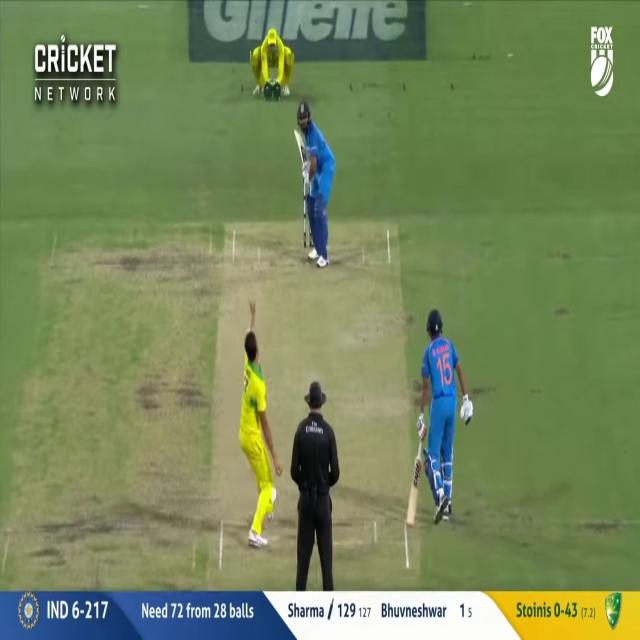stump: (303, 178, 313, 249), (309, 219, 314, 248)
